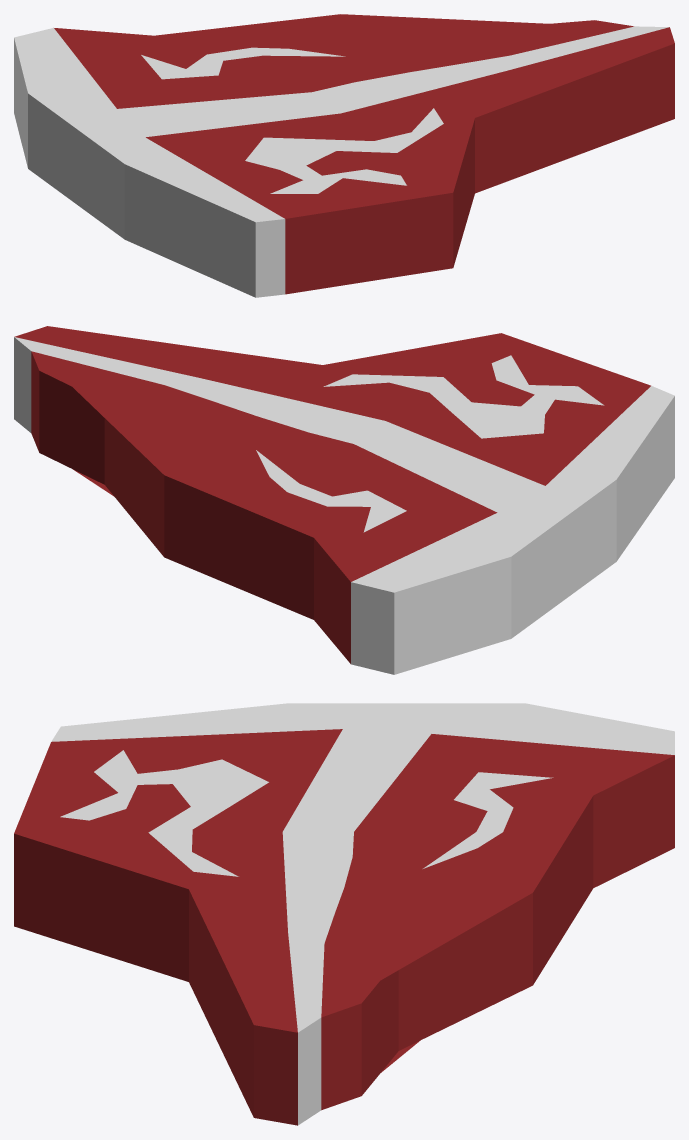
Rendered from TBoneSteak.fbx.
The picture shows the model from 3 angles, top to bottom: view 1: azimuth 30°, elevation 25°; view 2: azimuth 150°, elevation 25°; view 3: azimuth 270°, elevation 25°; orthographic projection. The views are drawn at different scales.
Parts seen in each view (by area): view 1: Cube.002; view 2: Cube.002; view 3: Cube.002.
Boxes of the visible parts, x1,y1,x2,y2 form: Cube.002: [14, 14, 674, 297]; Cube.002: [14, 326, 674, 674]; Cube.002: [14, 703, 674, 1125].
Bounding box in the file's own units: 48.05 × 6.32 × 40.74.
